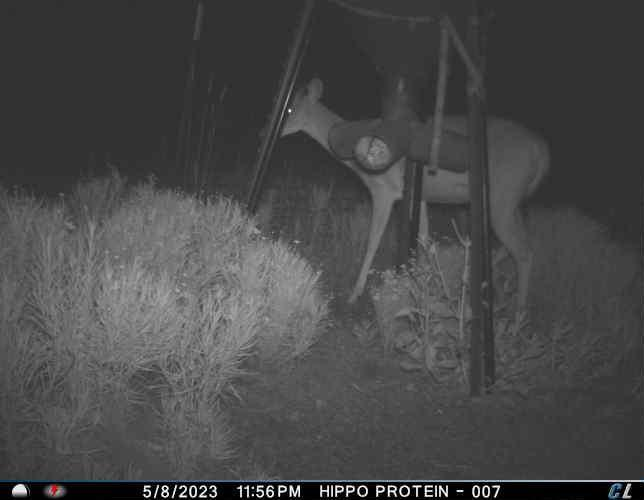Deer: (279, 75, 558, 316)
